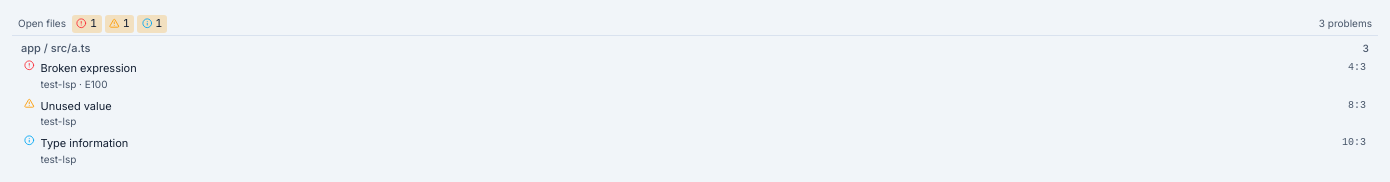
Test: ProblemsPanel › groups open-file diagnostics and filters by severity
Expected: the text "app / src/a.ts" is shown, 21,41 -> 90,55
Expected: the text "Broken expression" is shown, 40,61 -> 137,75
Click the button named "Show warning diagnostics". click: {"x": 119, "y": 24}
box: 105,14 -> 134,32
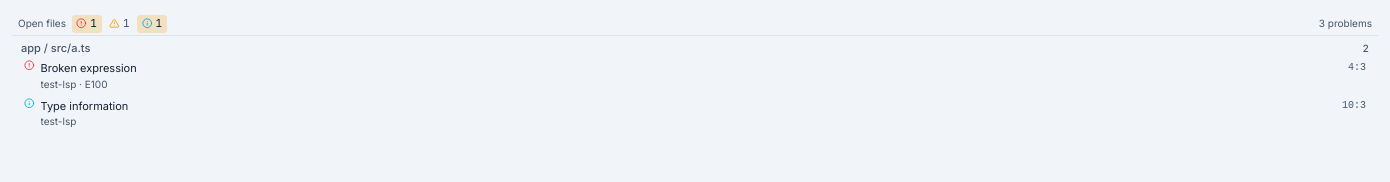
Expected: the text "Broken expression" is shown, 40,61 -> 137,75
Result: the button "Unused value" is gone
